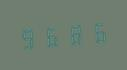eight: (62, 20, 83, 48)
nine: (18, 23, 39, 52)
six: (40, 22, 61, 50), (84, 18, 105, 46)
